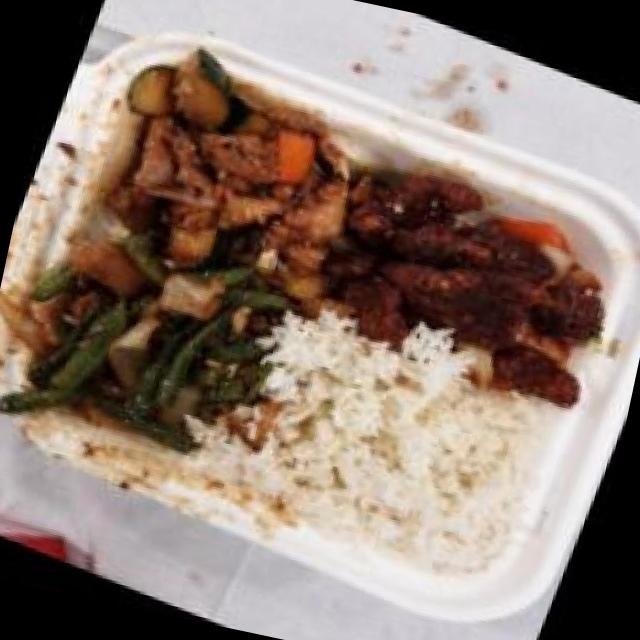Beijing Beef: (296, 129, 640, 422)
Kung Pao Chicken: (59, 25, 400, 322)
String Bean Chicken Breast: (0, 194, 308, 508)
White Steamed Rice: (225, 306, 570, 610)
